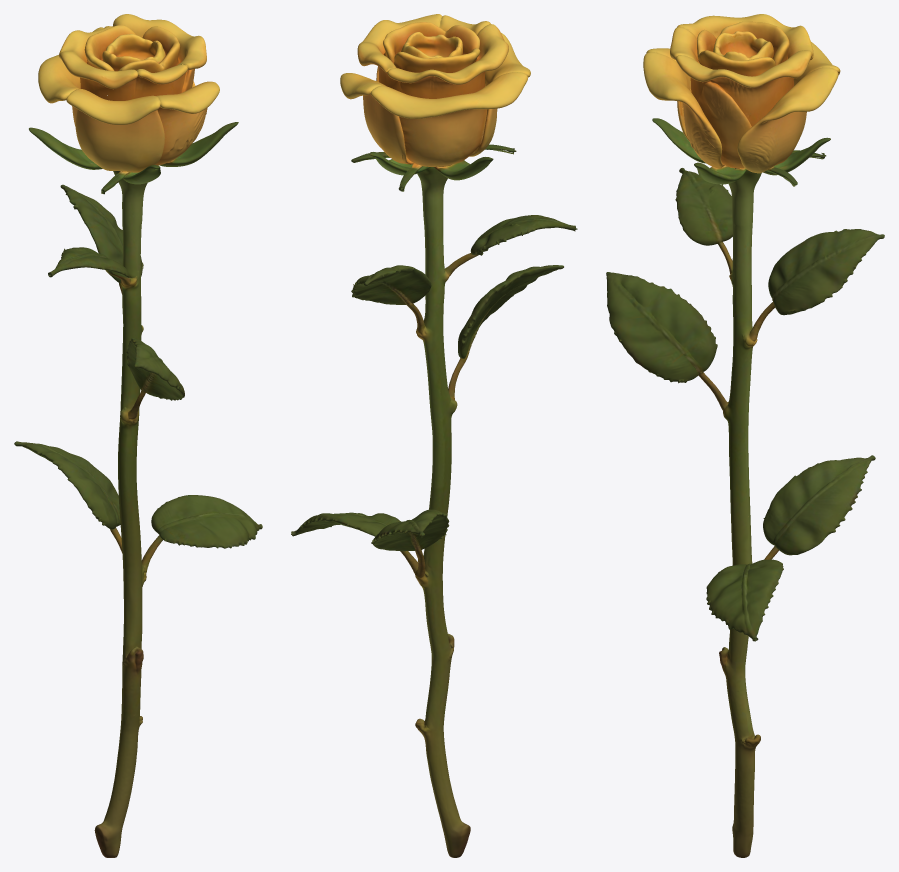
Rendered from yellow rose 3.glb.
The picture shows the model from 3 angles, left to right: view 1: azimuth 30°, elevation 25°; view 2: azimuth 150°, elevation 25°; view 3: azimuth 270°, elevation 25°; orthographic projection. The views are drawn at different scales.
Parts seen in each view (by area): view 1: tripo_node_66c99a9b-c66e-4163-aa7b-a69d582df94c; view 2: tripo_node_66c99a9b-c66e-4163-aa7b-a69d582df94c; view 3: tripo_node_66c99a9b-c66e-4163-aa7b-a69d582df94c.
Boxes of the visible parts, box(x1,y1,x2,y2) form: tripo_node_66c99a9b-c66e-4163-aa7b-a69d582df94c: box(14, 14, 262, 857); tripo_node_66c99a9b-c66e-4163-aa7b-a69d582df94c: box(291, 14, 577, 857); tripo_node_66c99a9b-c66e-4163-aa7b-a69d582df94c: box(606, 14, 884, 857).
Bounding box in the file's own units: 0.3163 × 0.979 × 0.2985.
Materials: 1 (1 with a texture image).
